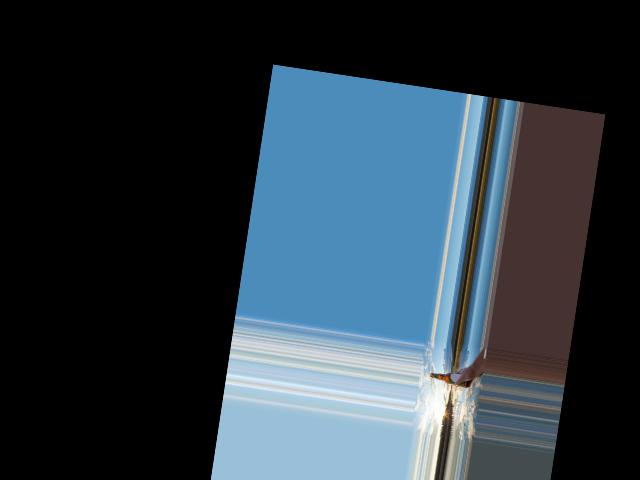beer: (428, 369, 470, 388)
